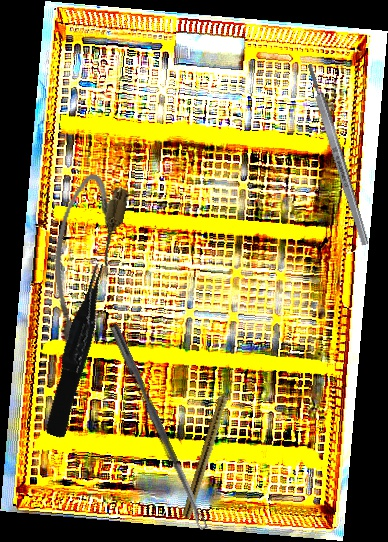Cannula: (33, 170, 132, 356)
Handpiece: (181, 377, 236, 521)
Scalpel Handle: (304, 62, 371, 247)
Surgical Spoon: (107, 322, 209, 532)
Tissue Forceps: (37, 261, 119, 439)
